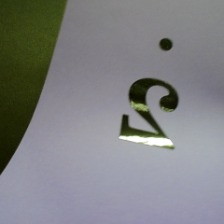violet2: (115, 33, 191, 158)
